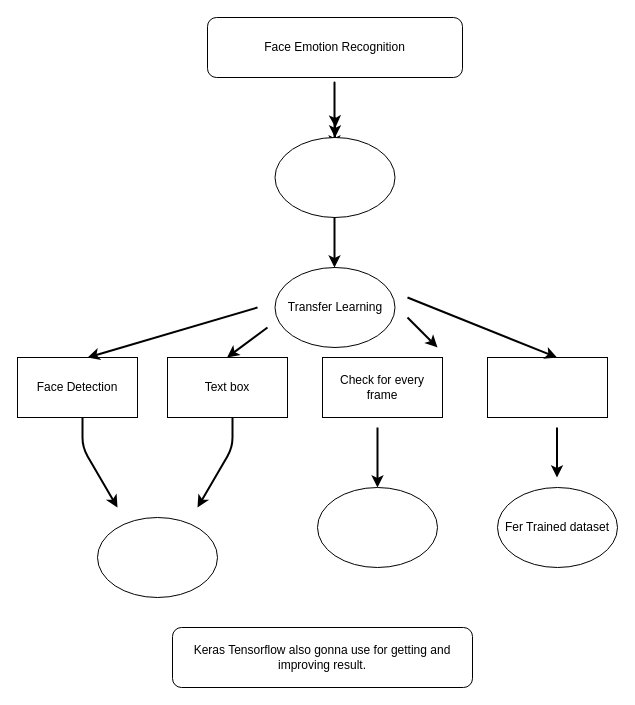
The diagram is 635 pixels wide and 705 high, and some of its shapes have lost their labels. Each missing label, with the box of its shape:
Deep Learning: (274, 136, 395, 218)
Get emotion: (486, 356, 608, 418)
OpenCV: (96, 516, 218, 598)
While{ loop}: (316, 486, 438, 568)
